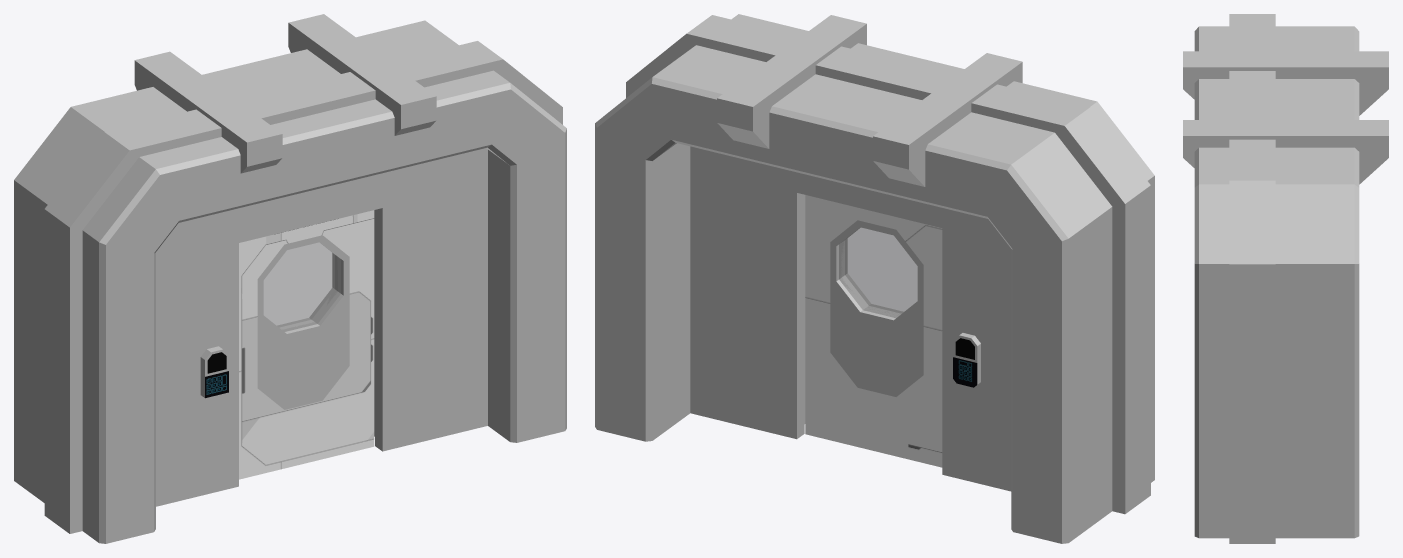
Rendered from SM_EntranceDoor_1.fbx.
3 renders of one model, left to right at view 1: azimuth 30°, elevation 25°; view 2: azimuth 150°, elevation 25°; view 3: azimuth 270°, elevation 25°, orthographic. The views are drawn at different scales.
Visible parts, largest first — view 1: SM_EntranceDoor_1, SM_Door_1; view 2: SM_EntranceDoor_1, SM_Door_1; view 3: SM_EntranceDoor_1.
Part boxes in pixels (<box>): SM_EntranceDoor_1: <box>14,14,566,543</box>; SM_Door_1: <box>239,210,374,479</box>; SM_EntranceDoor_1: <box>595,14,1154,543</box>; SM_Door_1: <box>805,195,942,467</box>; SM_EntranceDoor_1: <box>1183,14,1388,543</box>.
Bounding box in the file's own units: 449 × 324 × 177.
